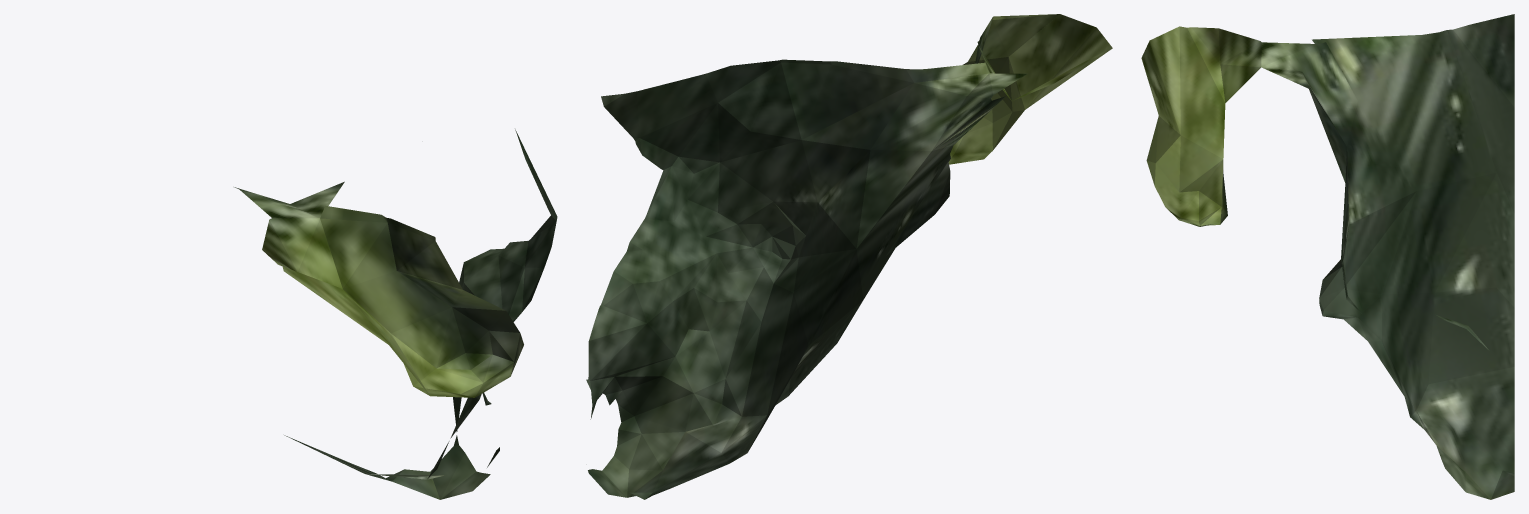
3 renders of one model, left to right at view 1: azimuth 30°, elevation 25°; view 2: azimuth 150°, elevation 25°; view 3: azimuth 270°, elevation 25°, orthographic. The views are drawn at different scales.
Size of the model in its own units: 2.77 by 2.86 by 2.82.
1 material, 1 textured.
